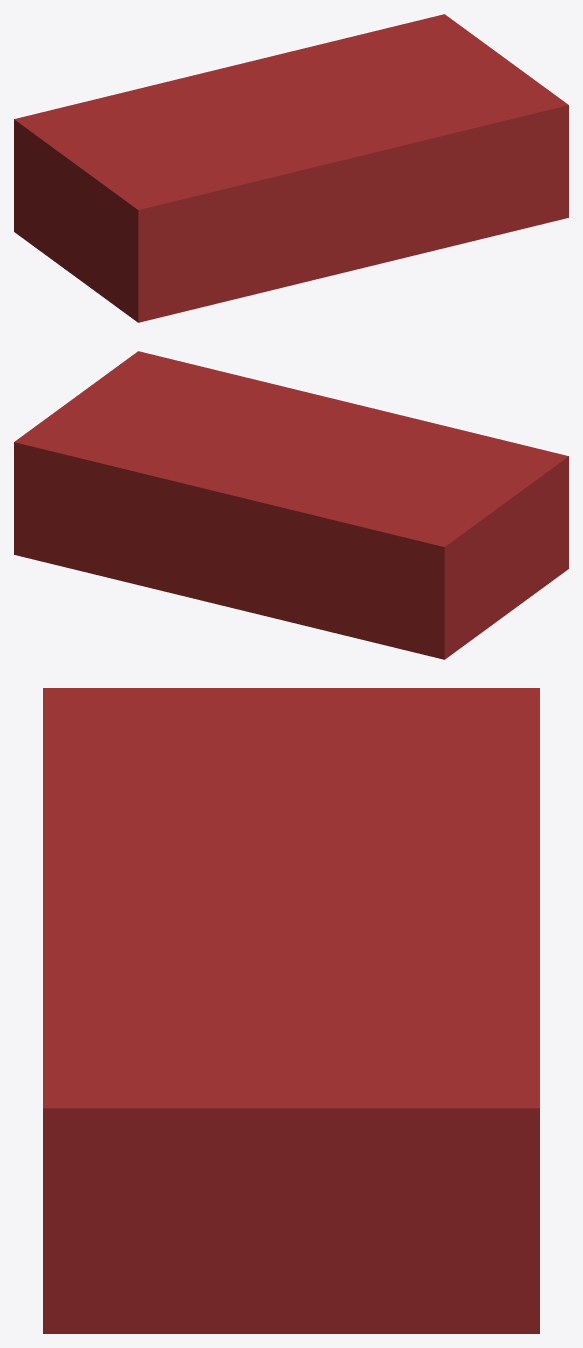
Rendered from book.gltf.
3 views of the same model, one above another, from view 1: azimuth 30°, elevation 25°; view 2: azimuth 150°, elevation 25°; view 3: azimuth 270°, elevation 25° (orthographic). The views are drawn at different scales.
Parts seen in each view (by area): view 1: Layer.1; view 2: Layer.1; view 3: Layer.1.
Part boxes in pixels (x1,y1,x2,y2): Layer.1: (14,14,568,322); Layer.1: (14,351,568,659); Layer.1: (43,688,539,1333).
Size of the model in its own units: 4 by 1 by 2.
Materials: 1 (1 with a texture image).
